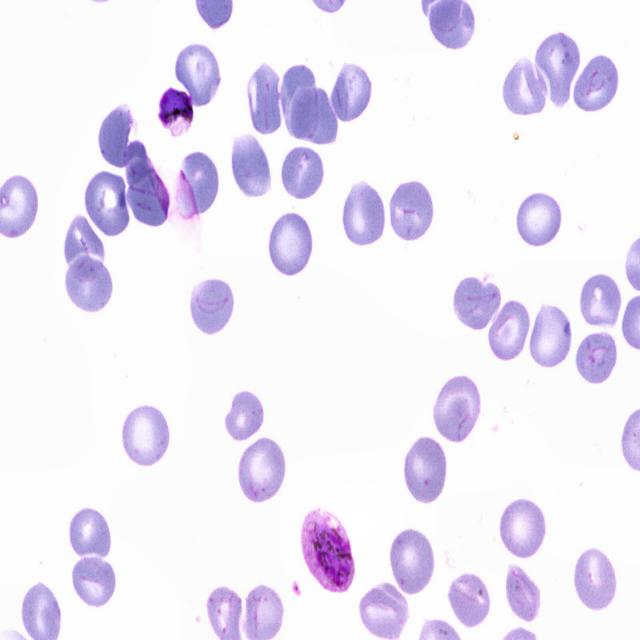difficult: (300, 508, 356, 596)
red blood cell: (123, 139, 174, 227), (238, 434, 288, 505), (171, 43, 223, 110), (536, 32, 580, 109), (281, 59, 321, 143), (387, 528, 437, 595), (432, 375, 482, 442), (571, 545, 618, 616), (268, 210, 315, 279), (406, 433, 449, 507), (358, 581, 411, 640), (120, 404, 170, 466), (499, 497, 548, 560), (387, 179, 434, 244), (289, 85, 339, 146), (85, 170, 130, 237), (342, 180, 386, 247), (526, 303, 572, 367), (500, 57, 548, 118), (572, 52, 619, 114), (63, 256, 113, 314), (188, 276, 236, 336), (514, 189, 564, 246), (446, 570, 494, 629), (486, 300, 530, 363), (64, 213, 104, 282), (454, 275, 503, 331), (246, 61, 282, 136), (97, 101, 136, 168), (232, 134, 272, 199), (67, 505, 111, 564), (280, 146, 326, 202), (582, 270, 624, 331), (330, 62, 371, 124), (178, 151, 217, 216), (70, 556, 118, 608), (575, 328, 617, 384), (504, 558, 540, 622), (223, 388, 266, 441)
